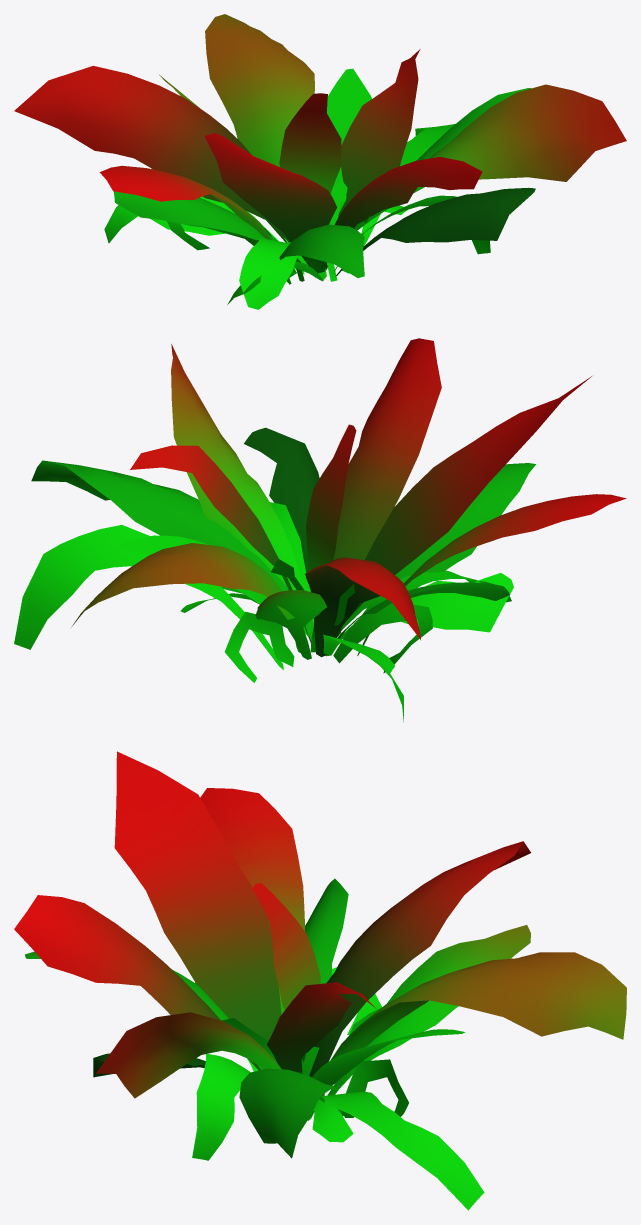
File: Fern_LOD0_Var3_rmAsg.fbx
The picture shows the model from 3 angles, top to bottom: view 1: azimuth 30°, elevation 25°; view 2: azimuth 150°, elevation 25°; view 3: azimuth 270°, elevation 25°; orthographic projection. The views are drawn at different scales.
Visible parts, largest first — view 1: _5463_Var3_LOD0; view 2: _5463_Var3_LOD0; view 3: _5463_Var3_LOD0.
Part boxes in pixels (x1,y1,x2,y2): _5463_Var3_LOD0: [14, 14, 626, 309]; _5463_Var3_LOD0: [14, 338, 626, 722]; _5463_Var3_LOD0: [14, 751, 626, 1210].
Bounding box in the file's own units: 202 × 91.3 × 187.
